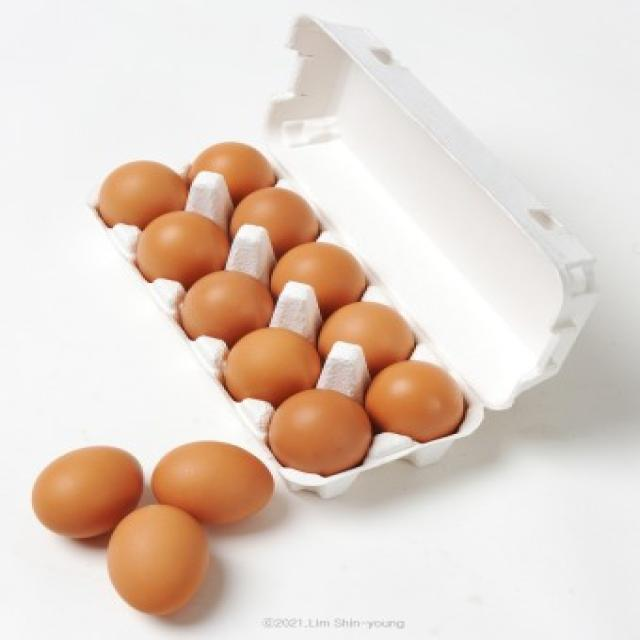eggs: (102, 500, 215, 621), (147, 437, 278, 527), (32, 446, 144, 545), (264, 388, 378, 481), (216, 324, 330, 402), (362, 359, 472, 438), (138, 208, 241, 282), (223, 180, 325, 252), (319, 300, 423, 370), (177, 269, 276, 342), (271, 240, 363, 318), (97, 159, 187, 223), (183, 141, 278, 194)
